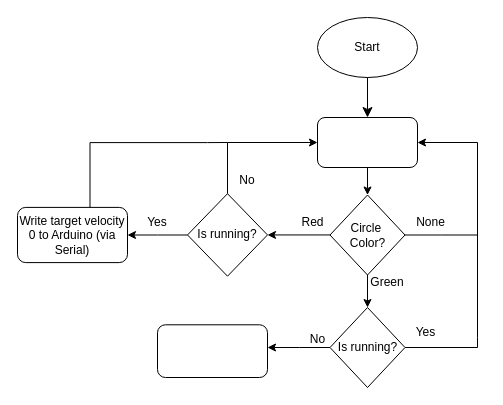
This 503x405 diagram has some shape labels left out. Each missing label, with the box of its shape:
Capture image, CNN prediction: (316, 116, 418, 168)
Write target velocity 1 to Arduino (via Serial): (156, 324, 268, 378)
